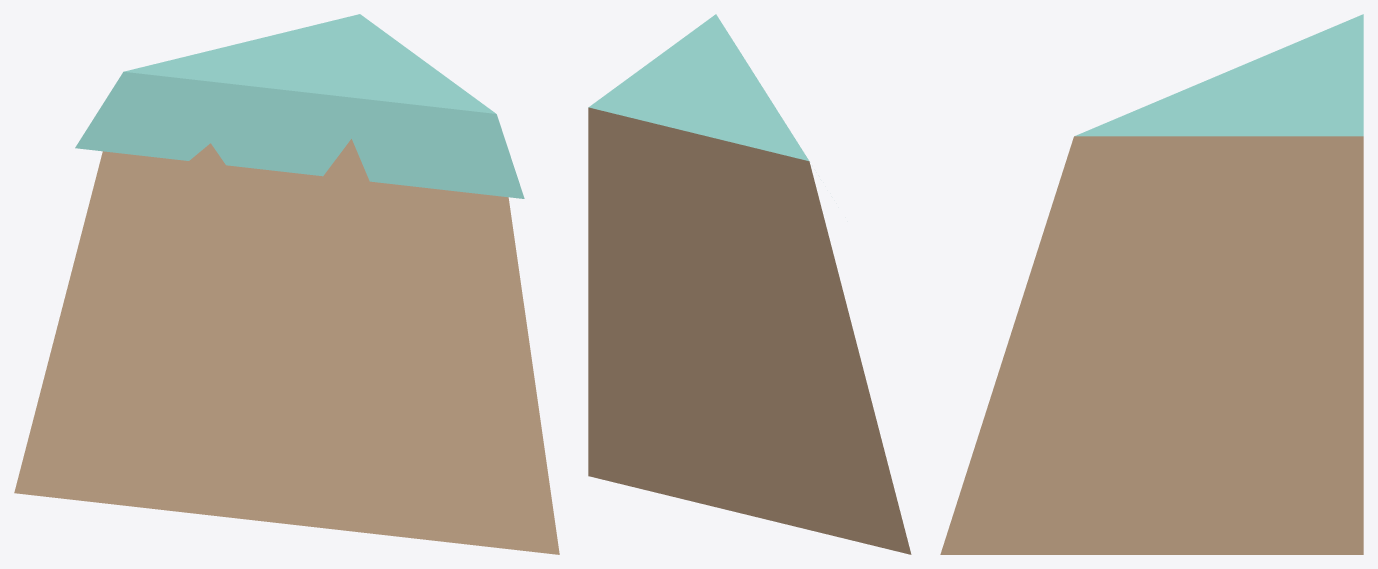
File: cliffBrown_halfCorner.glb
3 views of the same model, side by side, from view 1: azimuth 30°, elevation 25°; view 2: azimuth 150°, elevation 25°; view 3: azimuth 270°, elevation 25° (orthographic). The views are drawn at different scales.
Parts seen in each view (by area): view 1: cliffBrown_halfCorner; view 2: cliffBrown_halfCorner; view 3: cliffBrown_halfCorner.
Boxes of the visible parts, <box> form: cliffBrown_halfCorner: <box>14,14,559,554</box>; cliffBrown_halfCorner: <box>588,14,911,554</box>; cliffBrown_halfCorner: <box>940,14,1363,554</box>.
Size of the model in its own units: 0.4584 by 0.5 by 0.4584.
